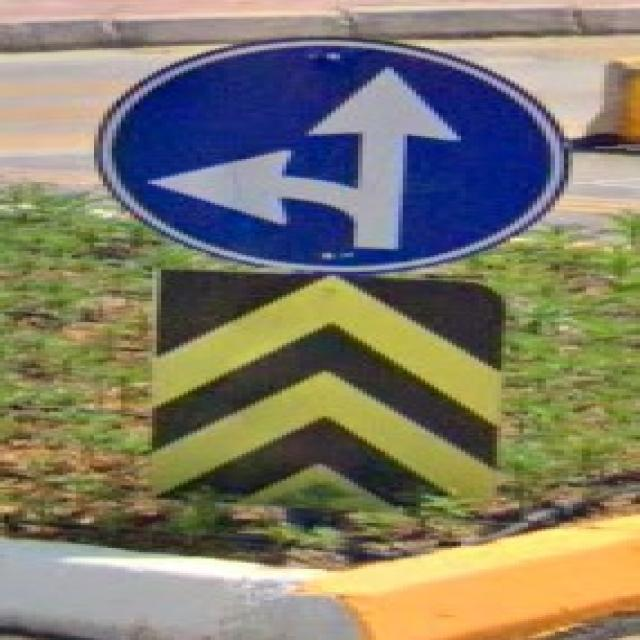Straight or Left: (95, 35, 569, 274)
